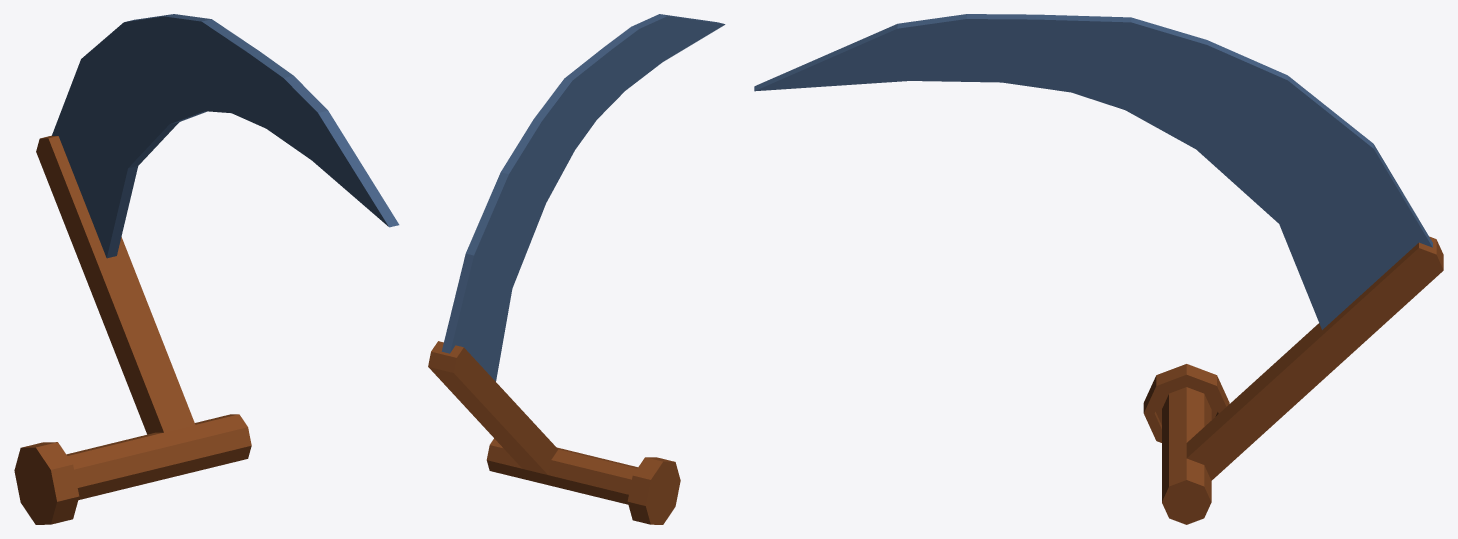
File: Sythe Arms L.fbx
3 views of the same model, side by side, from view 1: azimuth 30°, elevation 25°; view 2: azimuth 150°, elevation 25°; view 3: azimuth 270°, elevation 25° (orthographic). The views are drawn at different scales.
Parts seen in each view (by area): view 1: Sythe Arms.L; view 2: Sythe Arms.L; view 3: Sythe Arms.L.
Part boxes in pixels (x1,y1,x2,y2): Sythe Arms.L: (14, 14, 399, 524); Sythe Arms.L: (428, 14, 725, 524); Sythe Arms.L: (754, 14, 1443, 524).
Size of the model in its own units: 4.3 by 9.95 by 12.56.
